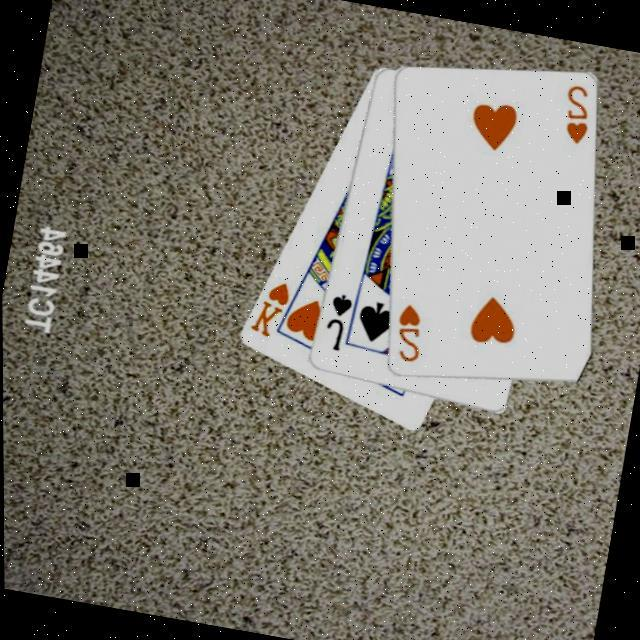2H: (388, 300, 431, 369), (555, 81, 598, 150)
JS: (319, 290, 356, 356)
KH: (245, 275, 295, 343)
